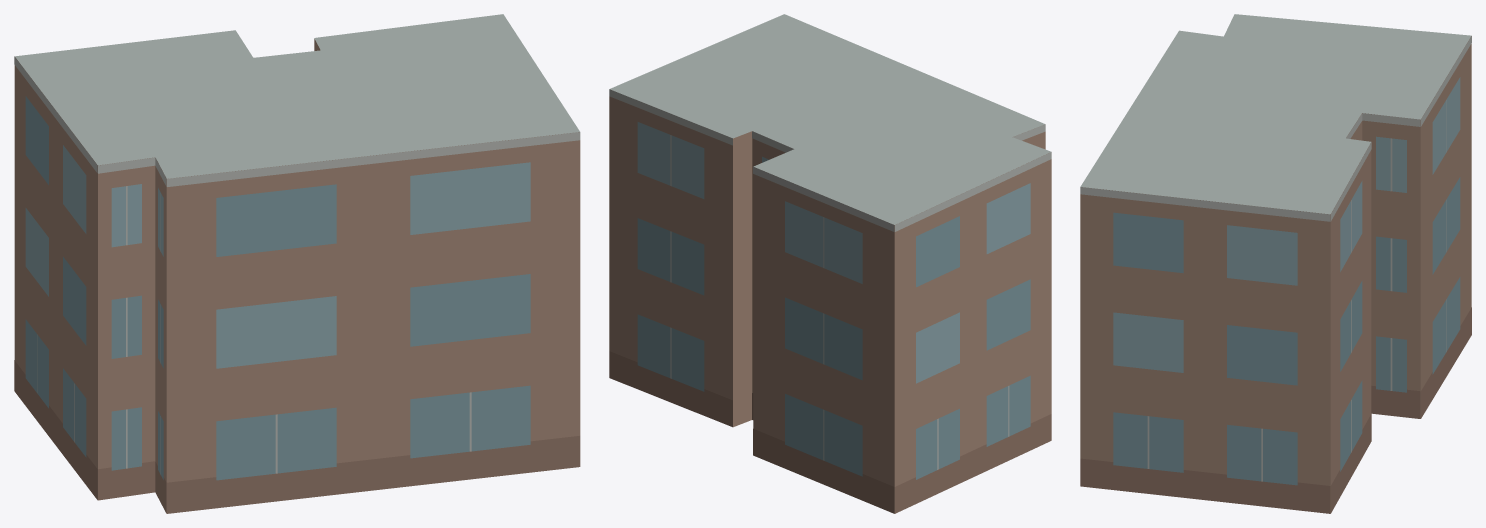
Rendered from survey-upis-32655049.glb.
3 views of the same model, side by side, from view 1: azimuth 30°, elevation 25°; view 2: azimuth 150°, elevation 25°; view 3: azimuth 270°, elevation 25° (orthographic). The views are drawn at different scales.
Visible parts, largest first — view 1: survey-upis-32655049.tmp; view 2: survey-upis-32655049.tmp; view 3: survey-upis-32655049.tmp.
Boxes of the visible parts, box(x1,y1,x2,y2) form: survey-upis-32655049.tmp: box(14, 14, 580, 513); survey-upis-32655049.tmp: box(609, 14, 1051, 513); survey-upis-32655049.tmp: box(1080, 14, 1471, 513).
Size of the model in its own units: 14.07 by 9.8 by 11.62.
